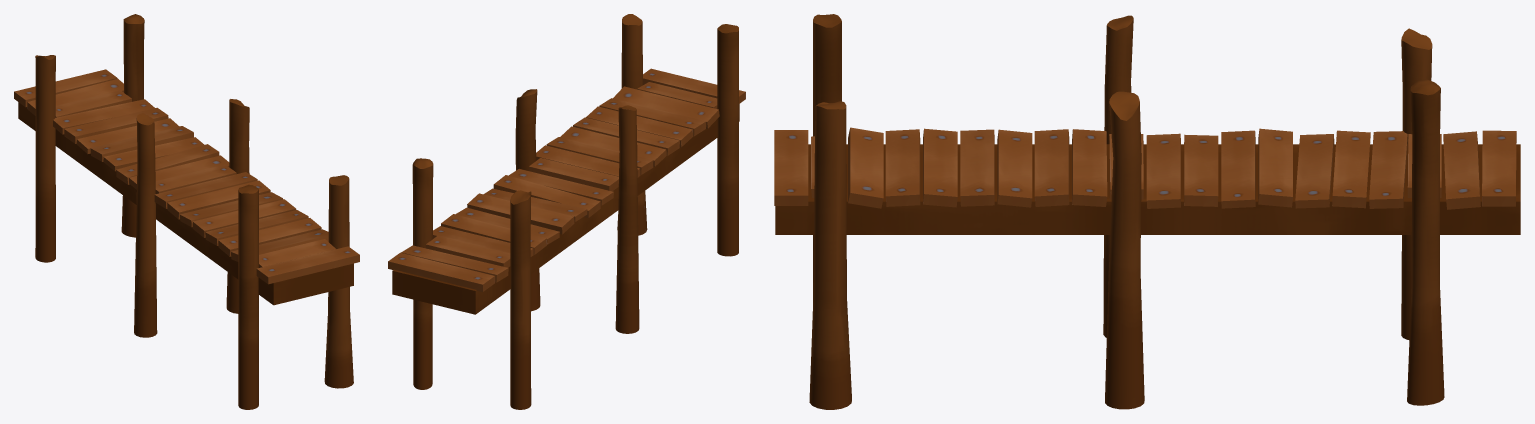
Rendered from Fdockend.fbx.
The picture shows the model from 3 angles, left to right: view 1: azimuth 30°, elevation 25°; view 2: azimuth 150°, elevation 25°; view 3: azimuth 270°, elevation 25°; orthographic projection. The views are drawn at different scales.
Visible parts, largest first — view 1: Dock; view 2: Dock; view 3: Dock.
Part boxes in pixels (bbox=[...]): Dock: bbox=[14, 14, 359, 409]; Dock: bbox=[388, 14, 745, 409]; Dock: bbox=[774, 14, 1520, 409].
Bounding box in the file's own units: 291 × 516 × 1101.
